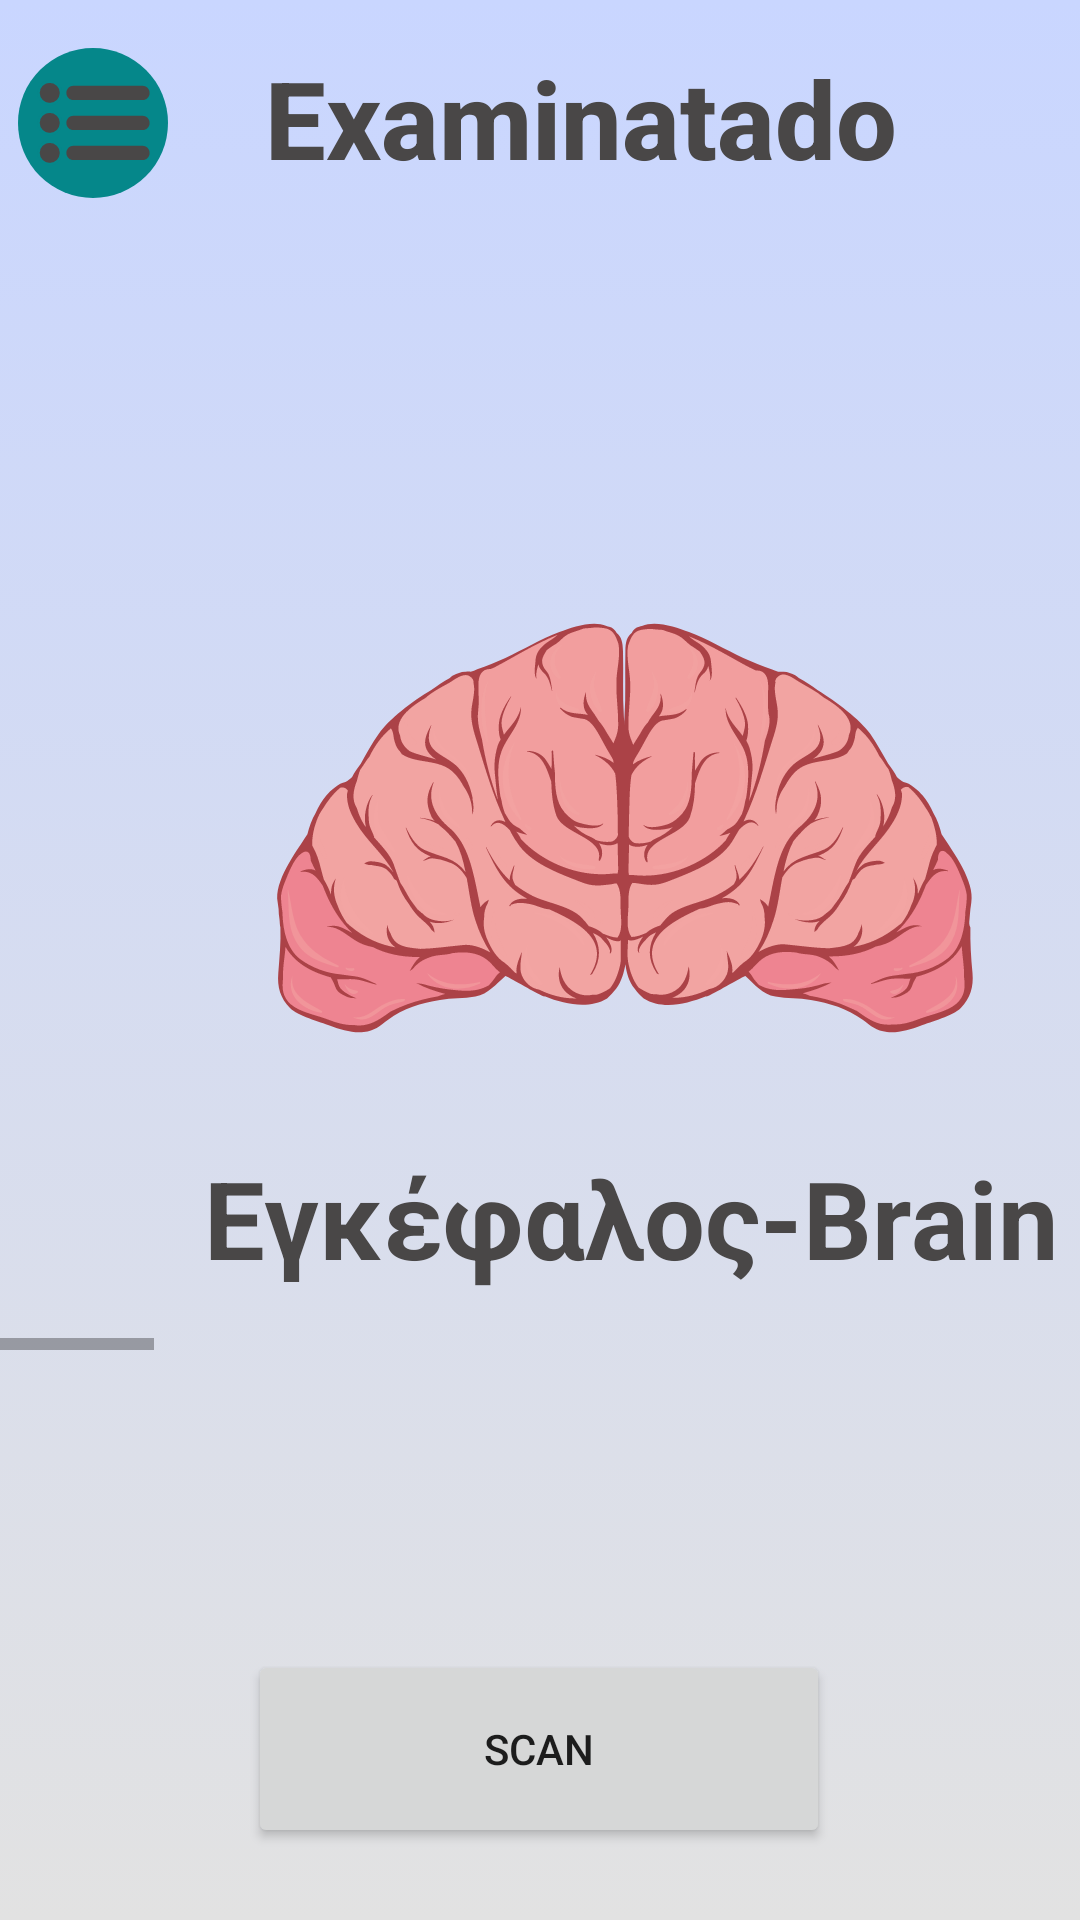

Icon bounding boxes for this 1080px×1920px phone screenshot, format (x1, y1, x2, y2):
menu: (18, 48, 168, 198)
